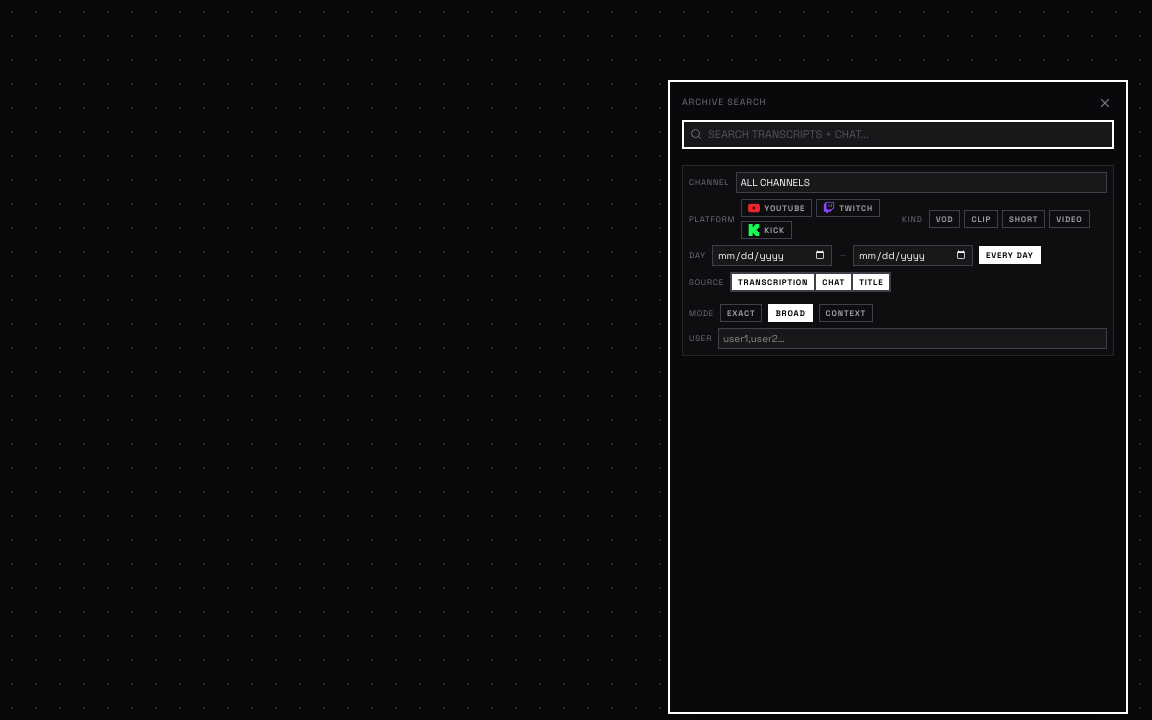
Test case: ArchiveSearchPopup › result rows render a logo per platform in hit.platforms, primary first
In the field with placeholder "SEARCH TRANSCRIPTS + CHAT...": x=907, y=134 [708,122,1106,146], type "zebra"
Wait 251 ms
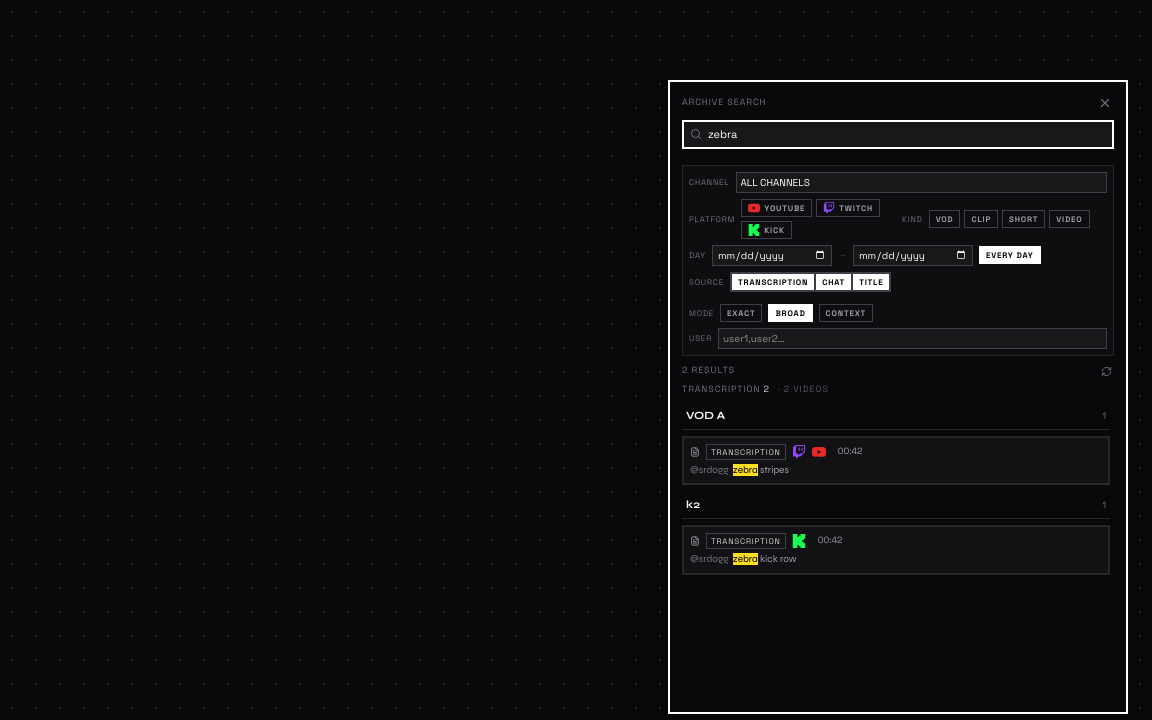
Check: the number of icons named "Twitch" is 2, box [792,444,806,458]; [812,444,826,458]
Check: the number of icons named "Kick" is 1, box [792,534,806,548]
